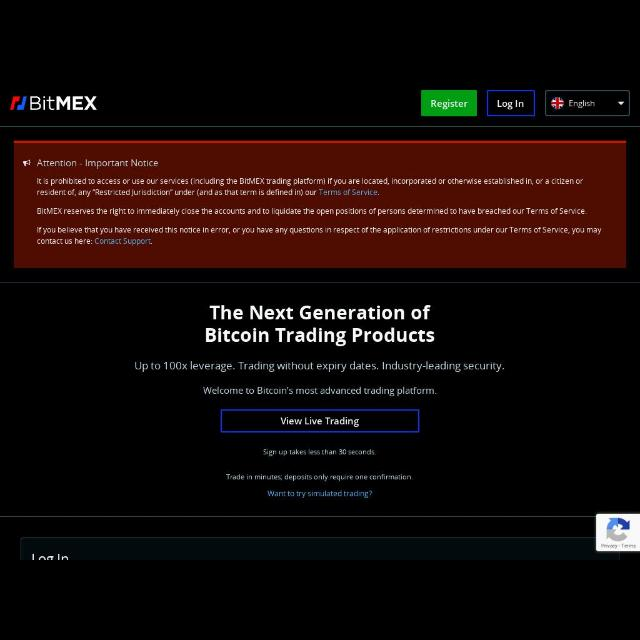icon: (23, 158, 31, 168), (619, 100, 625, 106)
image: (11, 95, 98, 112), (605, 517, 631, 541), (552, 96, 564, 110)
spinner: (546, 90, 630, 116)
text: (37, 226, 601, 247), (36, 178, 584, 196), (206, 306, 437, 344), (36, 207, 586, 217), (134, 362, 506, 372), (202, 384, 436, 398), (226, 473, 414, 483), (37, 158, 159, 168), (262, 448, 376, 458), (266, 489, 372, 499), (280, 417, 360, 429), (430, 100, 468, 110), (601, 542, 637, 550), (496, 100, 524, 110), (568, 99, 596, 109)
textbutton: (221, 410, 419, 432), (422, 90, 476, 116), (487, 90, 535, 116)
